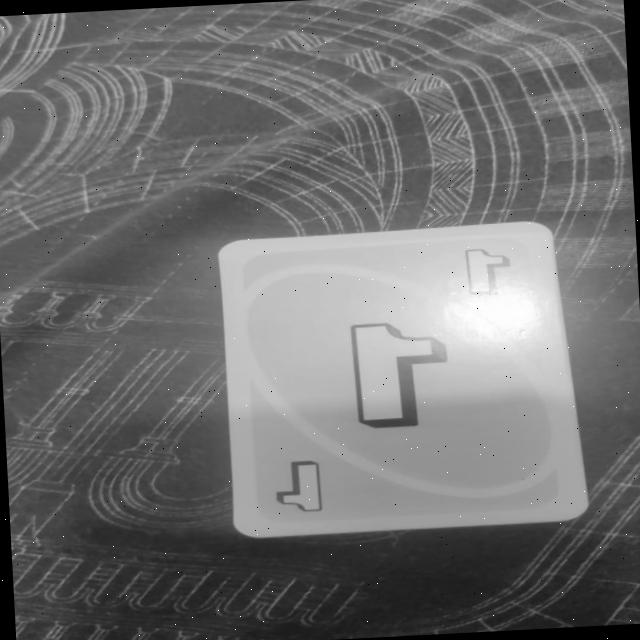card_1: (216, 218, 591, 540)
